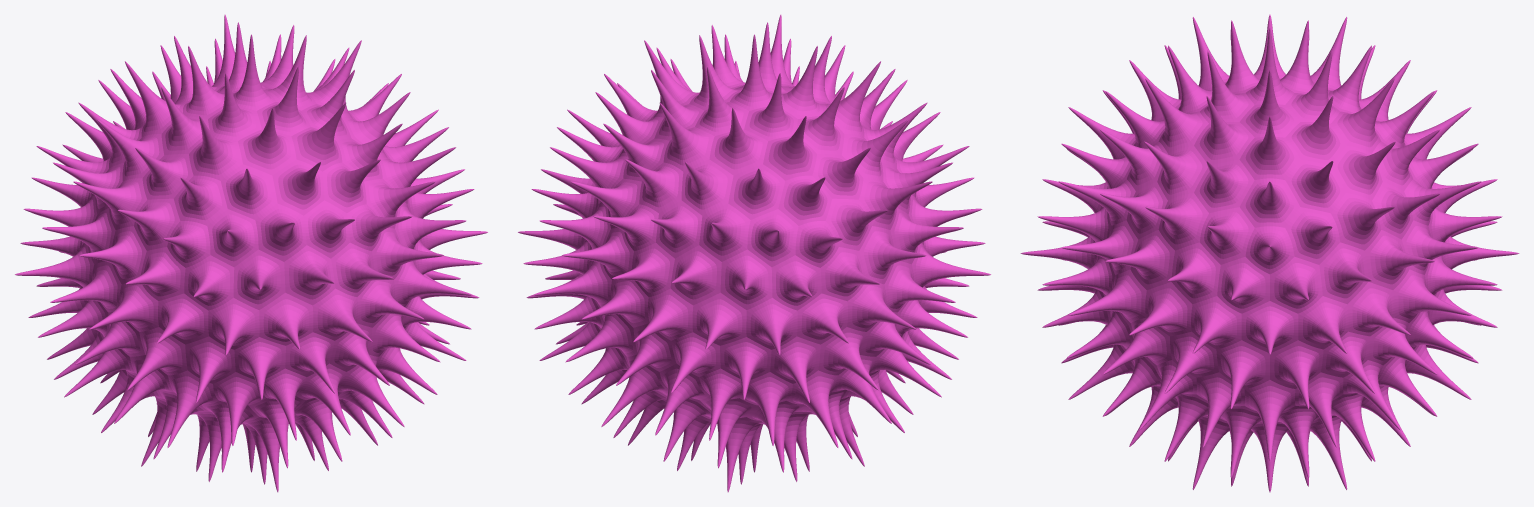
Rendered from virus.fbx.
The picture shows the model from 3 angles, left to right: view 1: azimuth 30°, elevation 25°; view 2: azimuth 150°, elevation 25°; view 3: azimuth 270°, elevation 25°; orthographic projection. The views are drawn at different scales.
Visible parts, largest first — view 1: Icosphere; view 2: Icosphere; view 3: Icosphere.
Part boxes in pixels (x1,y1,x2,y2): Icosphere: [15, 14, 487, 492]; Icosphere: [518, 14, 990, 492]; Icosphere: [1020, 14, 1519, 492].
Size of the model in its own units: 265 by 276 by 276.
